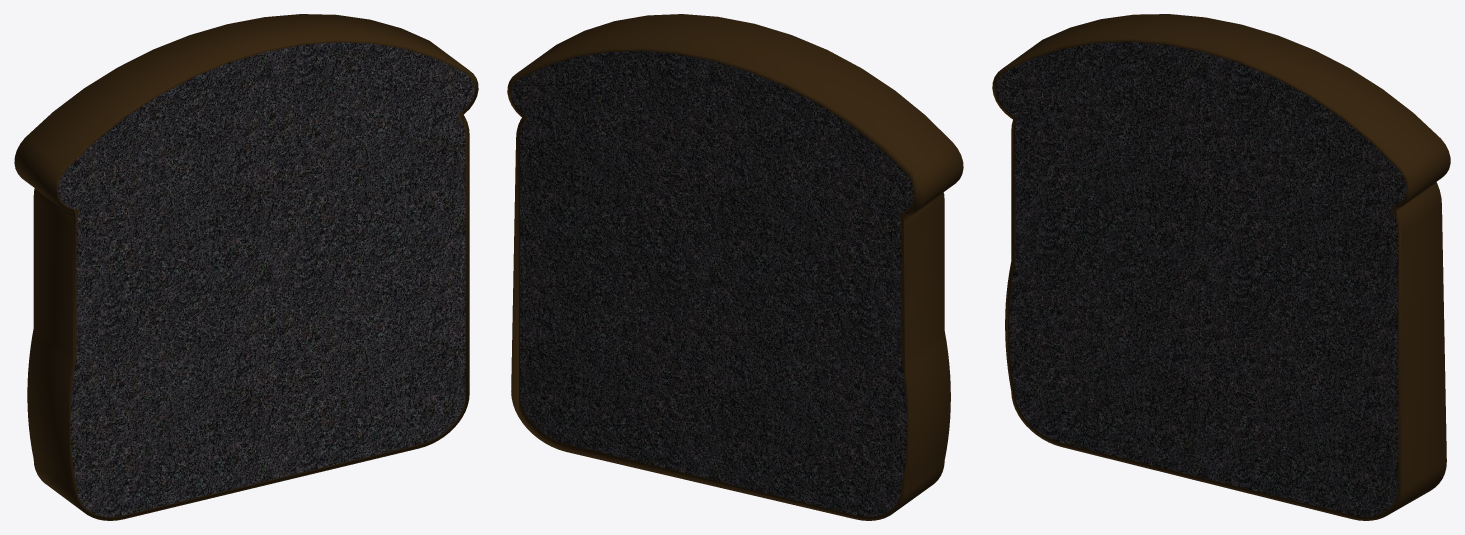
3 renders of one model, left to right at view 1: azimuth 30°, elevation 25°; view 2: azimuth 150°, elevation 25°; view 3: azimuth 330°, elevation 25°, orthographic.
Parts seen in each view (by area): view 1: Bread and Butter; view 2: Bread and Butter; view 3: Bread and Butter.
Boxes of the visible parts, left/top/right/bottom form: Bread and Butter: left=14, top=14, right=478, bottom=520; Bread and Butter: left=507, top=14, right=963, bottom=520; Bread and Butter: left=992, top=14, right=1450, bottom=520.
Size of the model in its own units: 0.1141 by 0.1136 by 0.0193.
Materials: 2 (1 with a texture image).
